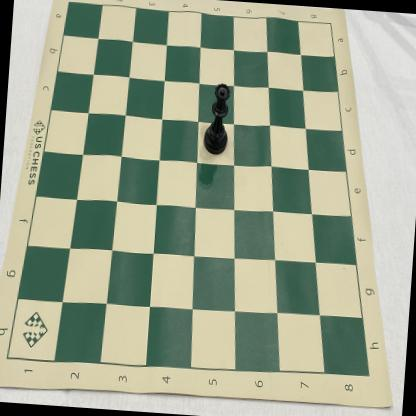queen: (202, 82, 233, 158)
